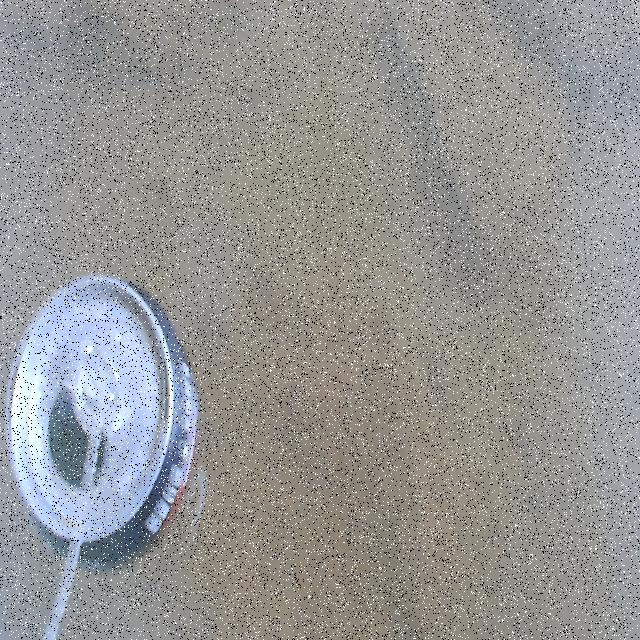Can: (5, 262, 199, 563)
